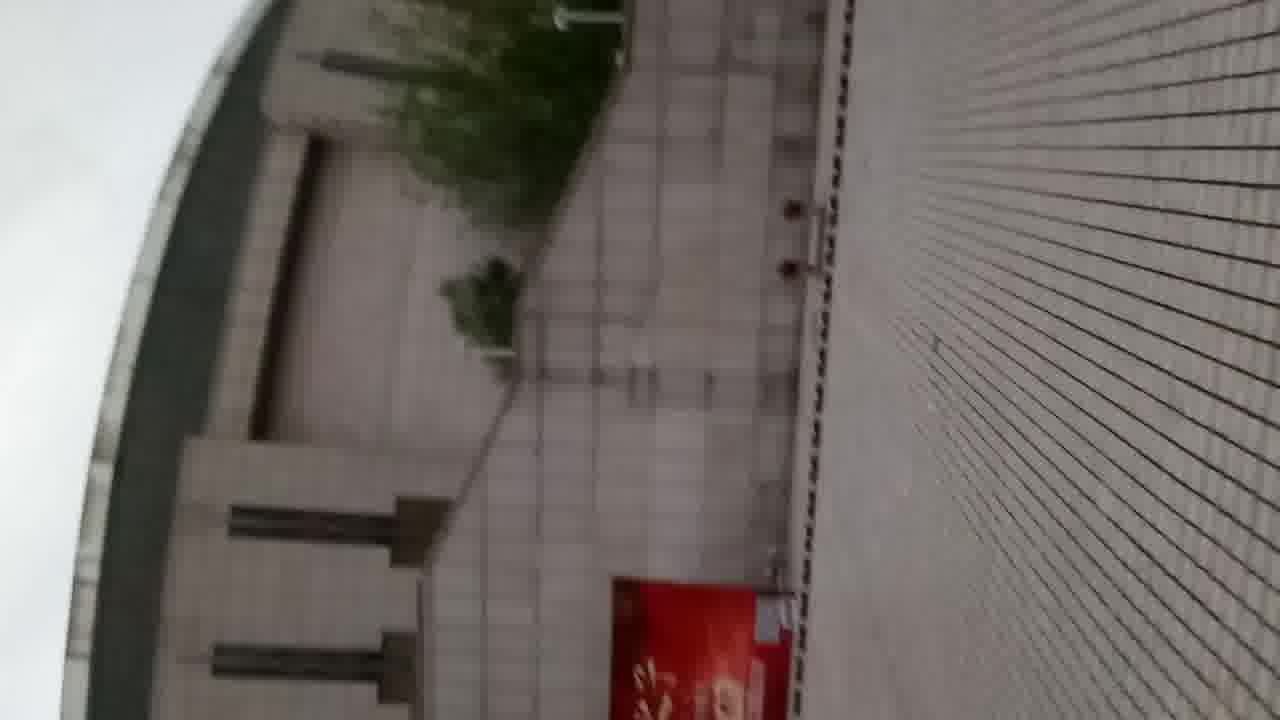zhongtiww: (41, 4, 838, 720)
